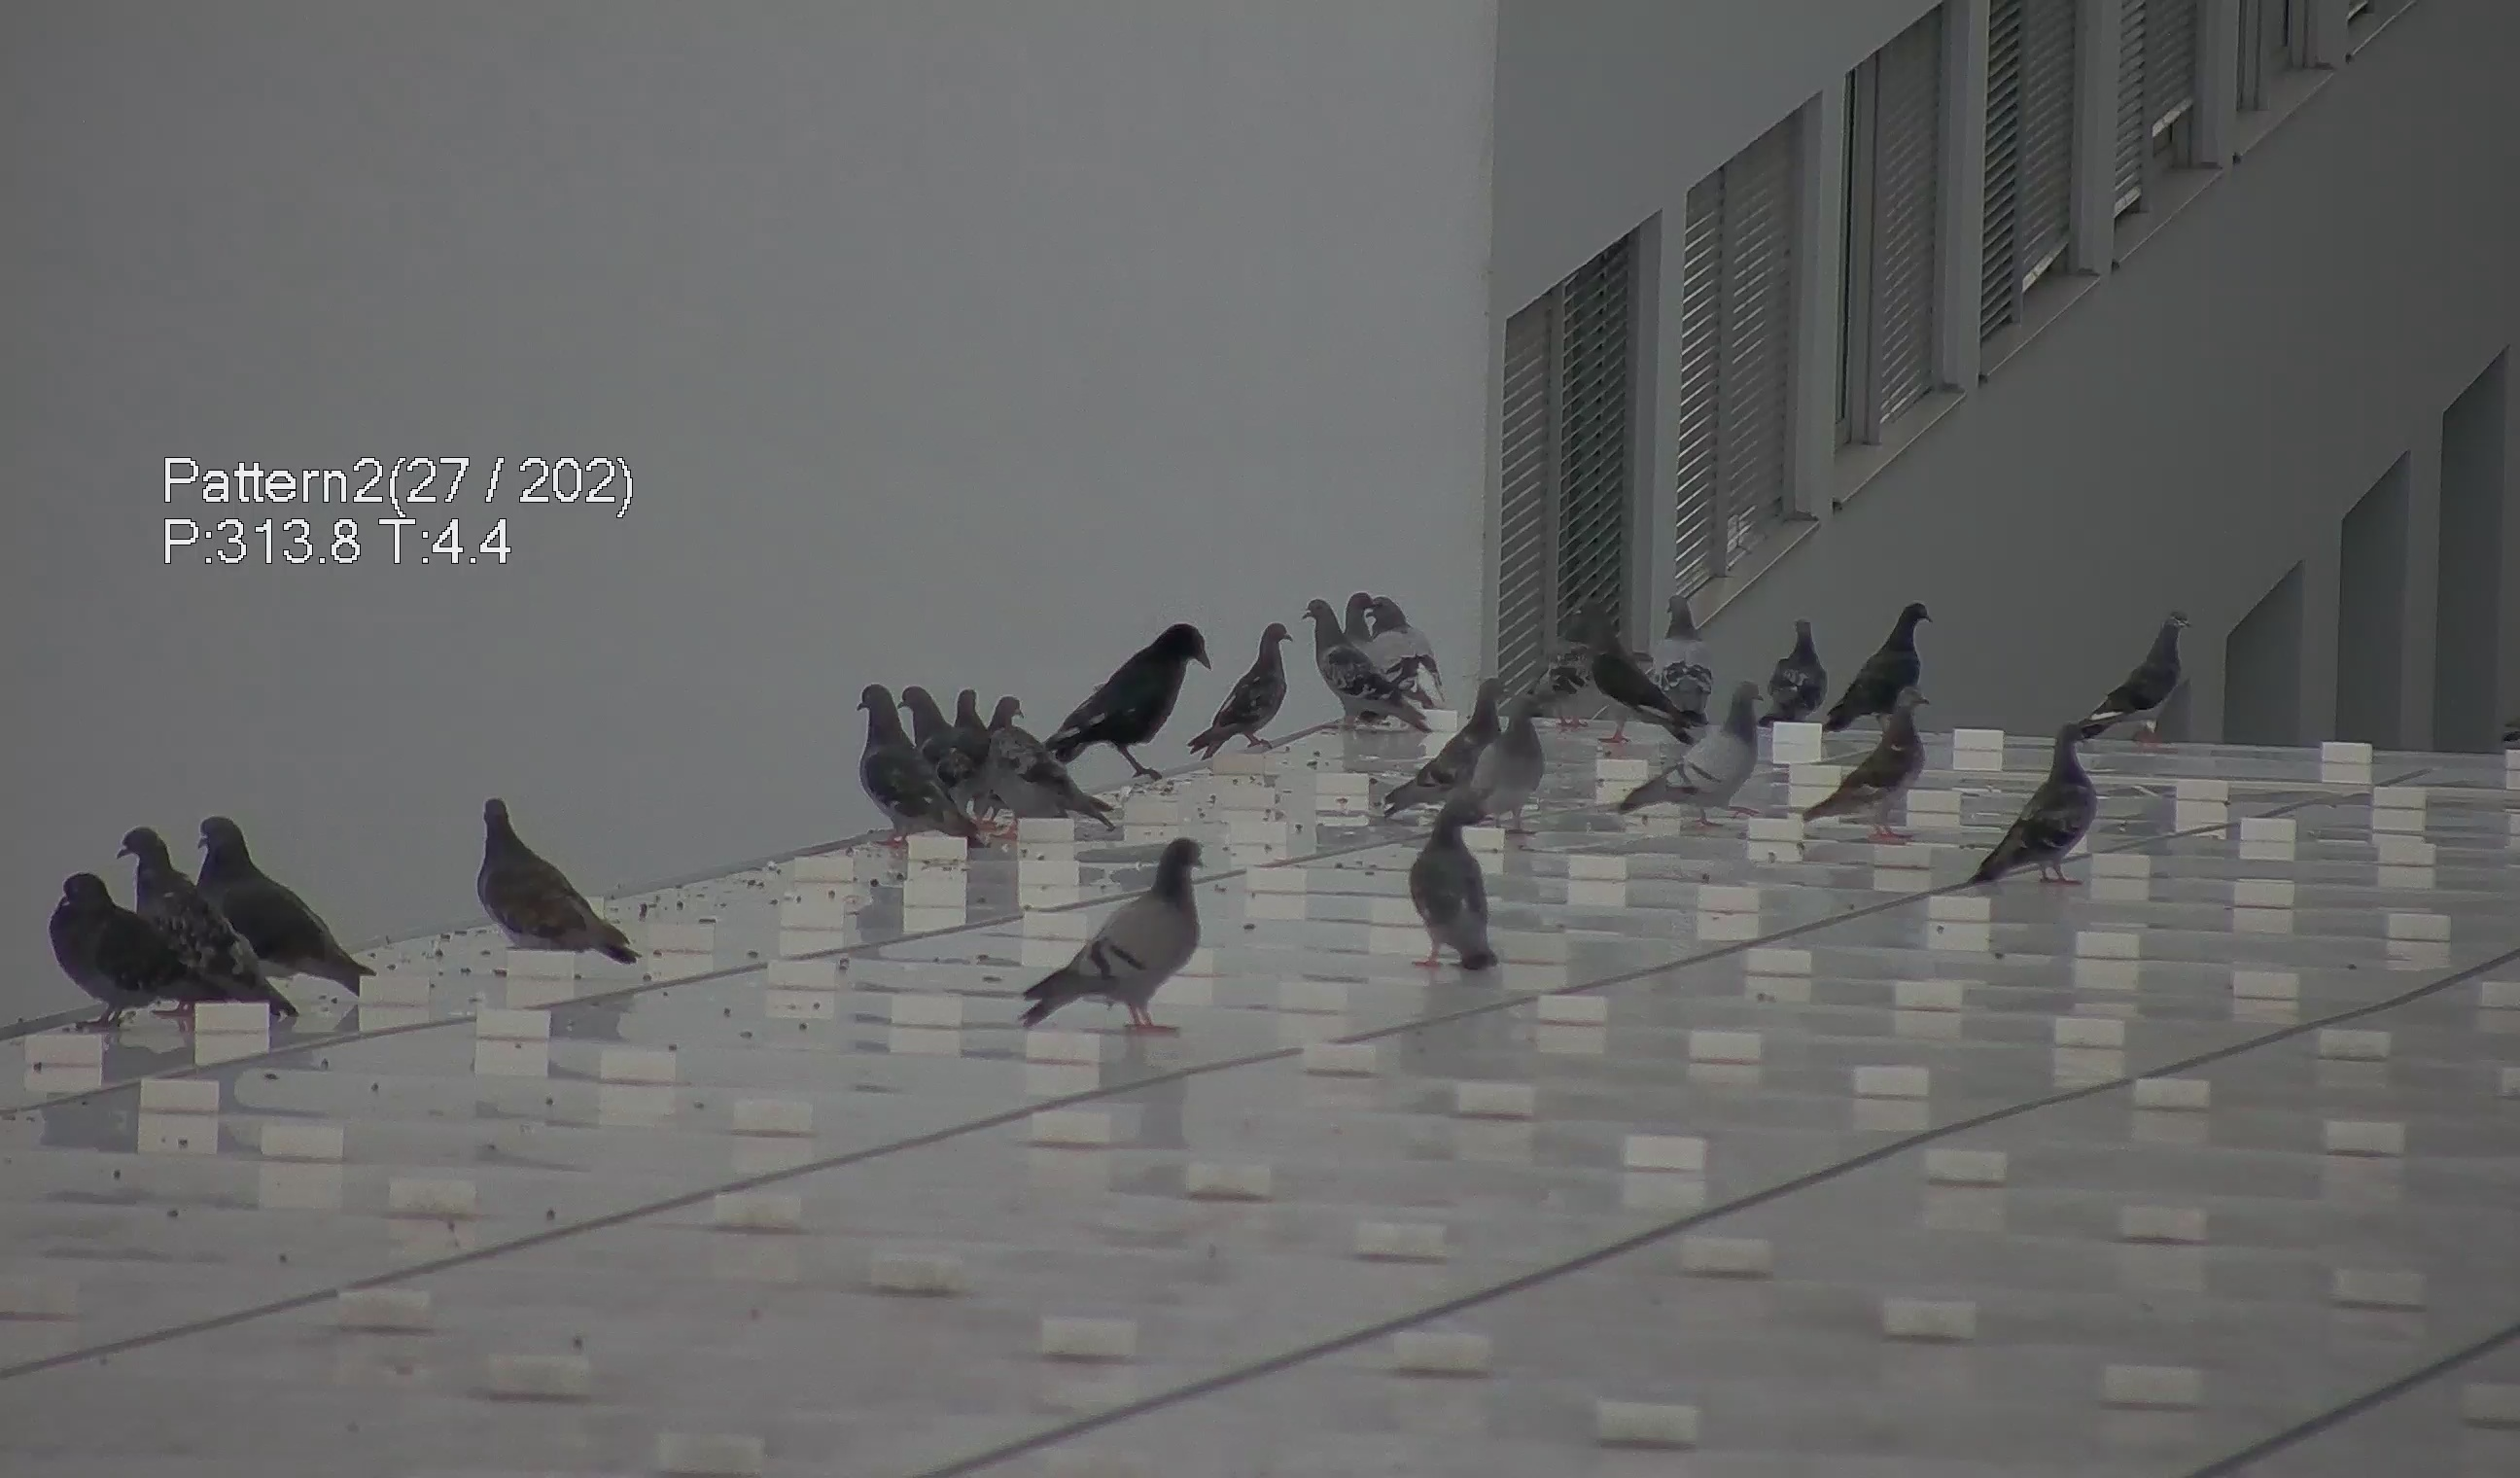Pigeon: (113, 816, 302, 1043), (1013, 843, 1217, 1049), (188, 808, 383, 1017), (454, 792, 630, 982), (30, 862, 204, 1029), (1046, 612, 1213, 778), (1966, 706, 2105, 904), (844, 669, 976, 853), (1637, 676, 1787, 827), (1189, 604, 1322, 769), (1402, 801, 1521, 975), (1799, 679, 1922, 843), (1303, 593, 1435, 741), (1829, 589, 1947, 748), (2080, 605, 2205, 751), (972, 711, 1111, 834), (900, 679, 1027, 801), (1403, 679, 1505, 829), (1340, 581, 1458, 697), (1644, 589, 1729, 741), (1586, 630, 1699, 743), (1752, 612, 1841, 737), (1507, 593, 1590, 727), (1484, 690, 1556, 832)
